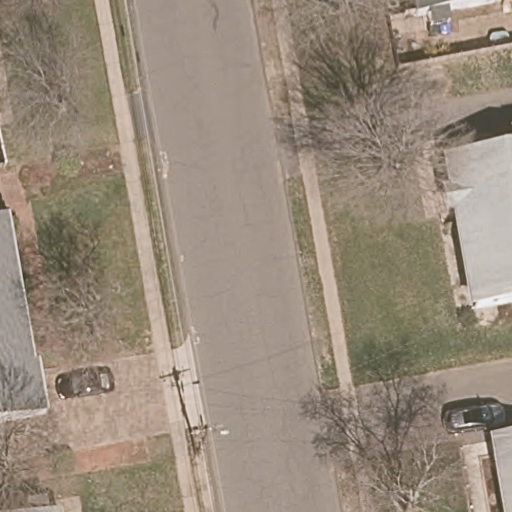DT: (187, 415, 230, 456)
